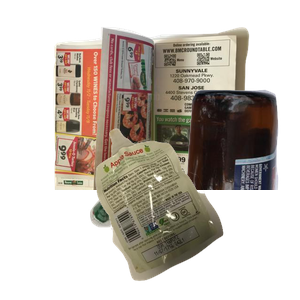glass: (87, 87, 300, 267)
paper: (51, 24, 291, 204)
plastic: (88, 182, 242, 300)
trash: (93, 126, 300, 300)
